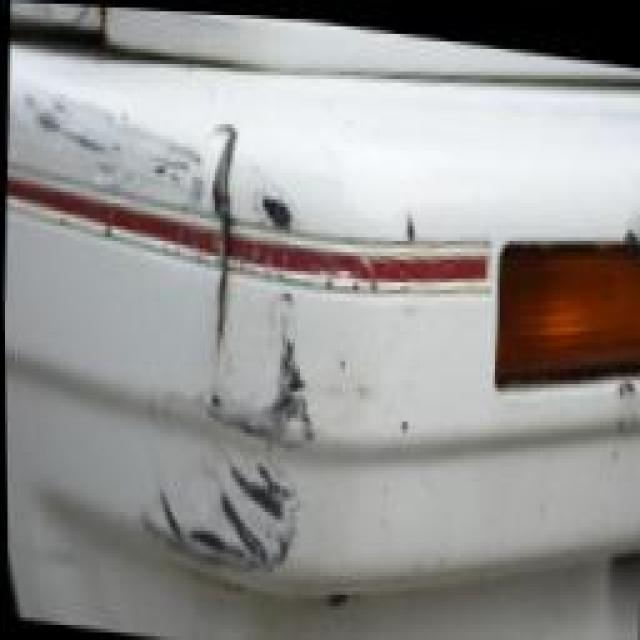Bumper: (4, 45, 522, 640)
